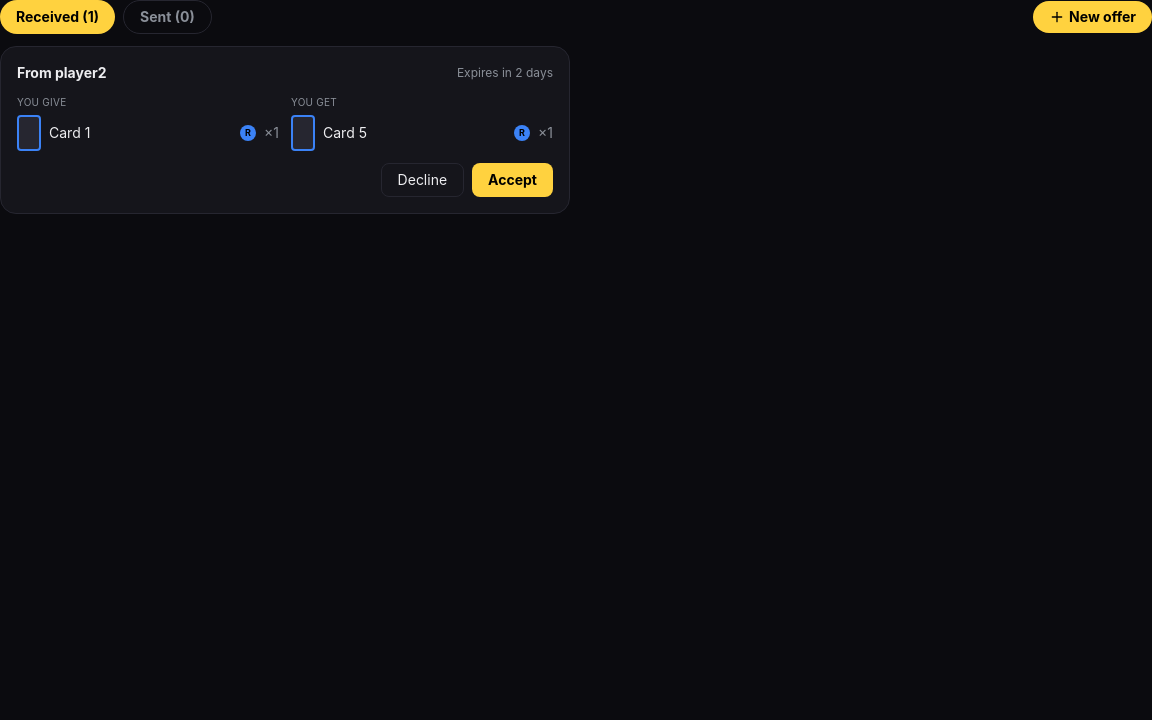
TradesTab › maps errors and refreshes when the offer is gone
Click the button "Accept" at coordinates (513, 180), box [472,163,553,197]
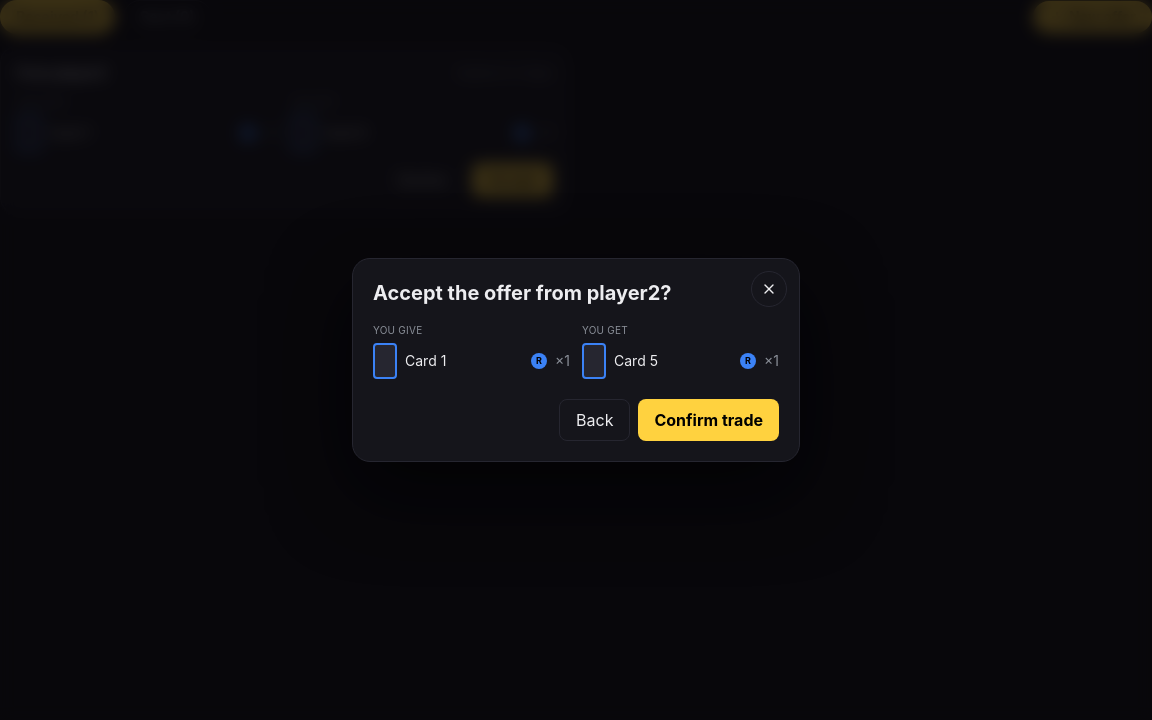
Click the button "Confirm trade" at coordinates (709, 420), box [638,399,779,441]
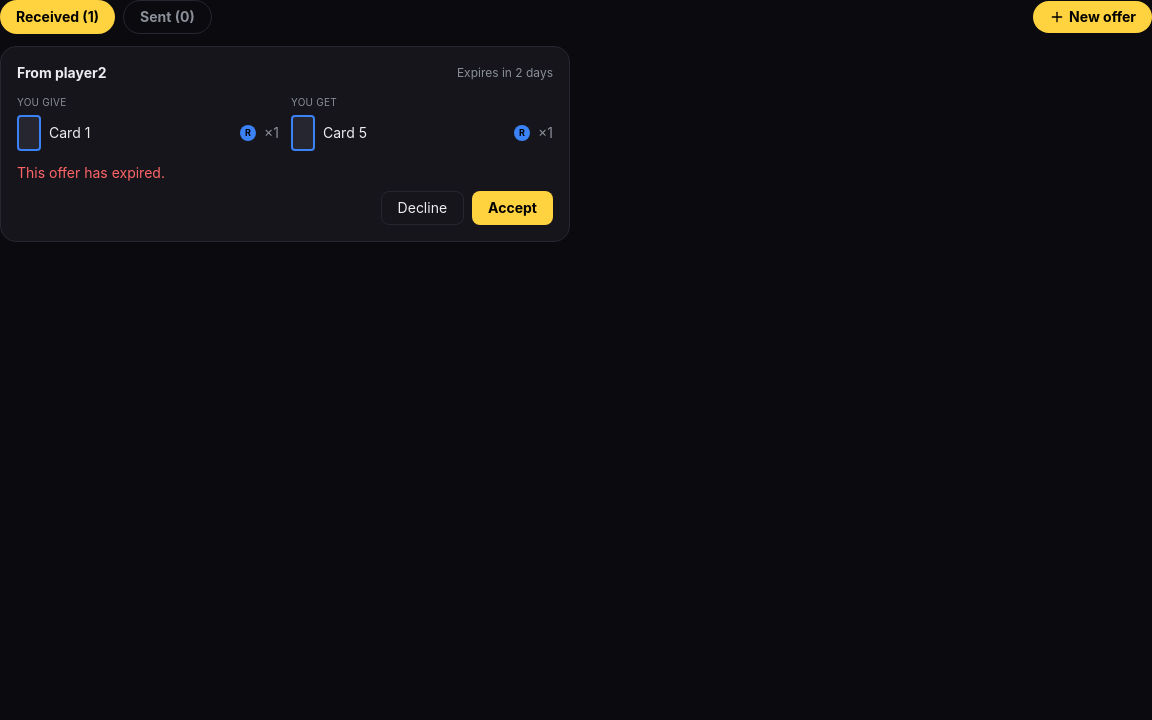
Now the message reads "This offer has expired.", box [17,164,165,181]
